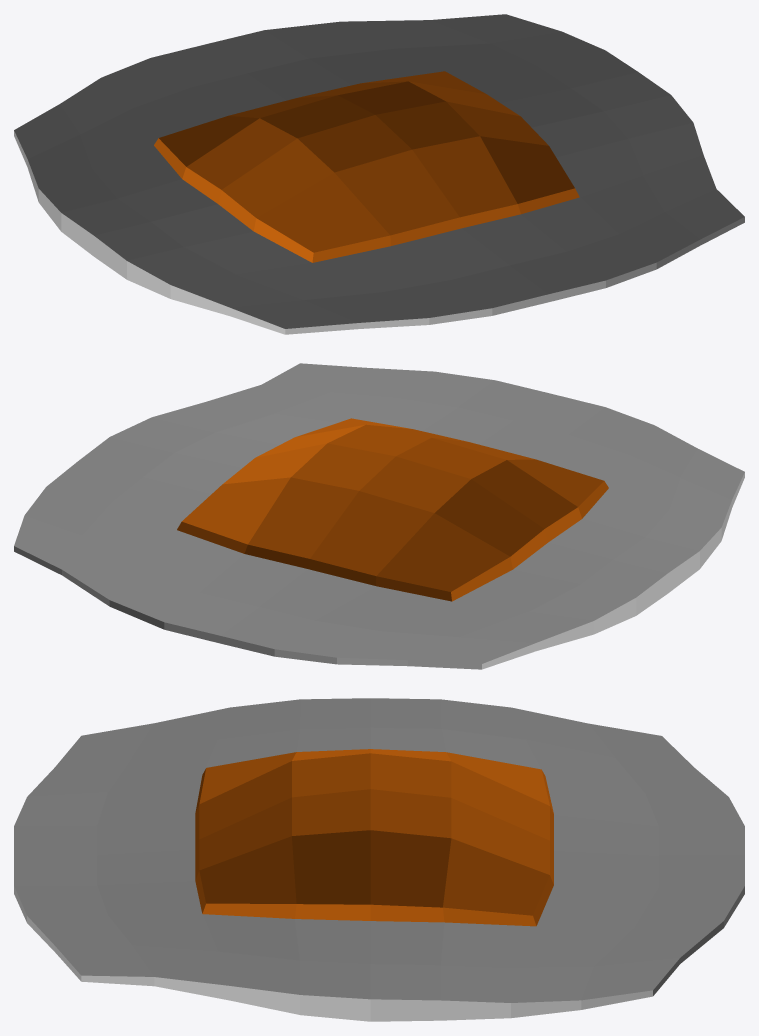
File: Egg.fbx
3 views of the same model, one above another, from view 1: azimuth 30°, elevation 25°; view 2: azimuth 150°, elevation 25°; view 3: azimuth 270°, elevation 25° (orthographic). The views are drawn at different scales.
Parts seen in each view (by area): view 1: Node 0; view 2: Node 0; view 3: Node 0.
Part boxes in pixels (x1=…): Node 0: x1=14, y1=14, x2=744, y2=334; Node 0: x1=14, y1=363, x2=744, y2=669; Node 0: x1=14, y1=698, x2=744, y2=1021.
Bounding box in the file's own units: 0.2449 × 0.0495 × 0.2387.
